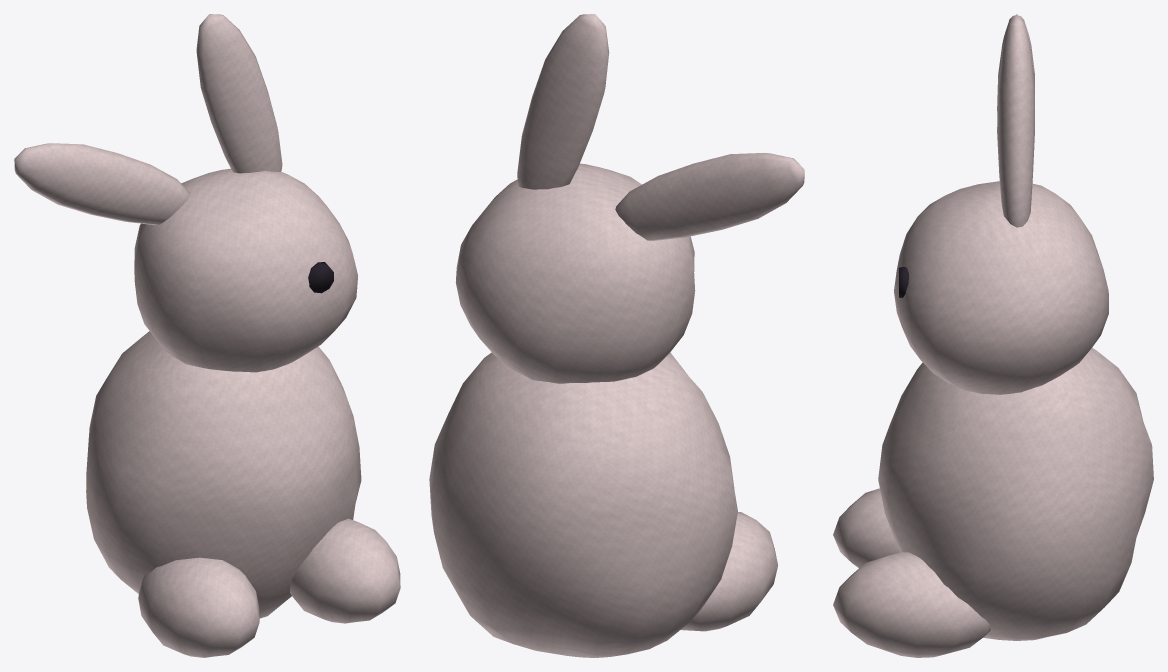
The model's file is Lapin.glb.
3 renders of one model, left to right at view 1: azimuth 30°, elevation 25°; view 2: azimuth 150°, elevation 25°; view 3: azimuth 270°, elevation 25°, orthographic. The views are drawn at different scales.
Visible parts, largest first — view 1: Peluche, Oeil; view 2: Peluche; view 3: Peluche.
Boxes of the visible parts, x1=… form: Peluche: x1=14, y1=14, x2=400, y2=657; Oeil: x1=308, y1=262, x2=333, y2=293; Peluche: x1=429, y1=14, x2=804, y2=657; Peluche: x1=833, y1=14, x2=1153, y2=657.
Bounding box in the file's own units: 0.2387 × 0.4058 × 0.1934.
Materials: 2 (1 with a texture image).
